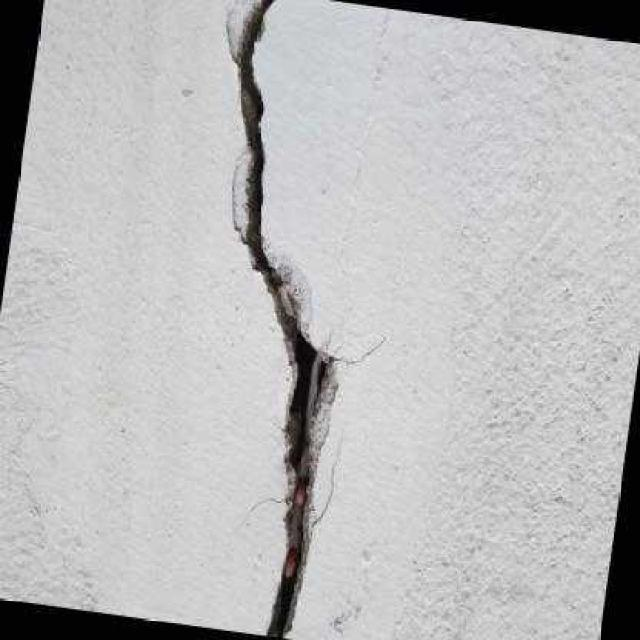D00: (238, 0, 325, 638)
